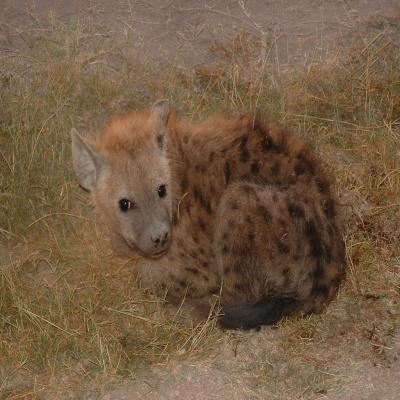hyenas: (59, 91, 400, 350)
